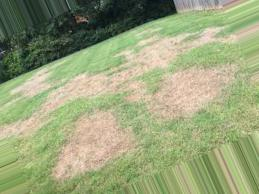patch: (71, 144, 96, 165), (159, 89, 186, 106), (89, 120, 115, 135), (133, 51, 157, 66), (80, 77, 99, 94), (124, 71, 140, 89), (186, 73, 210, 84), (162, 43, 182, 56), (103, 75, 118, 92), (72, 123, 86, 141), (100, 143, 118, 156), (60, 86, 78, 99), (192, 34, 213, 45), (192, 89, 206, 102), (44, 98, 60, 107), (165, 76, 179, 84), (39, 108, 51, 116), (11, 125, 24, 132), (28, 116, 37, 126), (91, 137, 98, 142), (213, 28, 219, 32)
